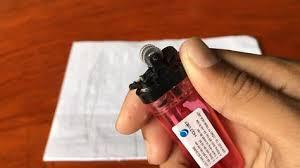lighter: (136, 44, 247, 168)
